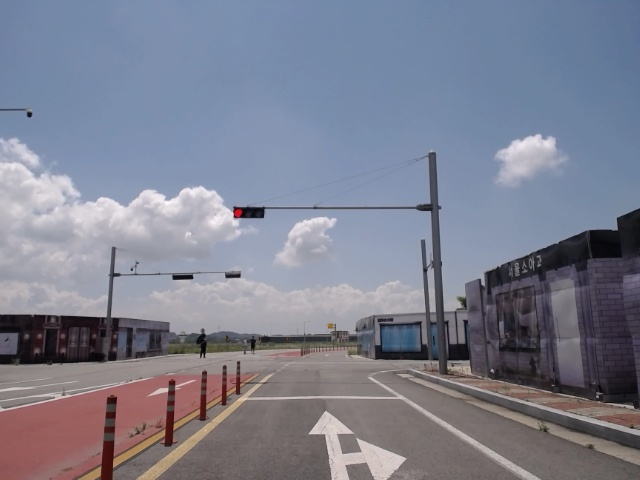red_3: (233, 206, 267, 219)
